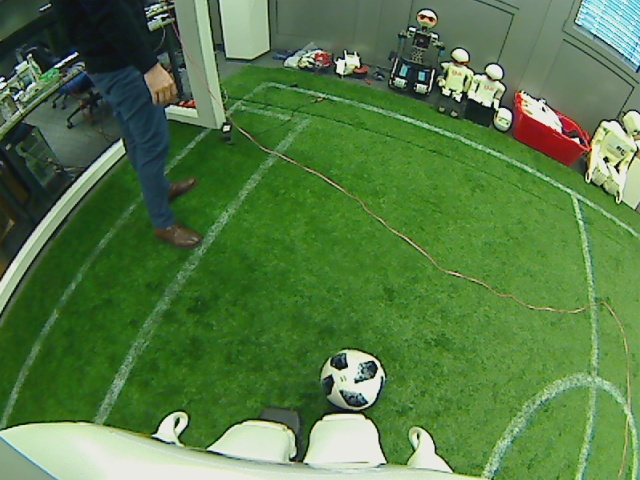ball: (316, 345, 386, 412)
